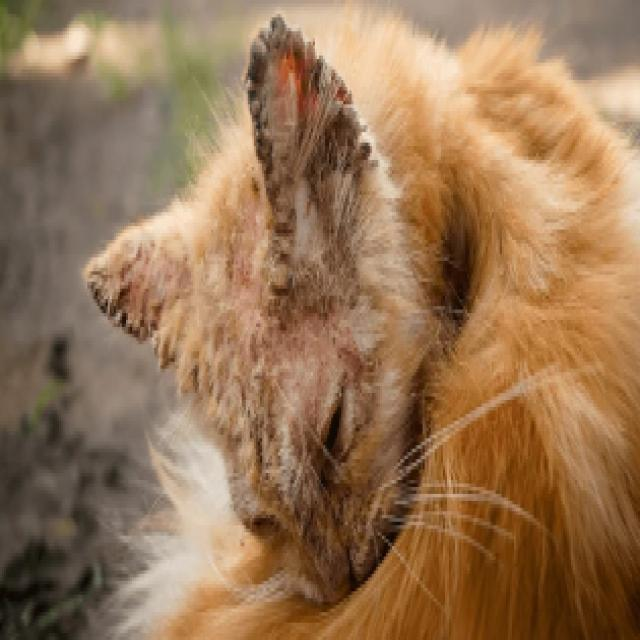Mange: (247, 11, 348, 207), (333, 322, 388, 389)
